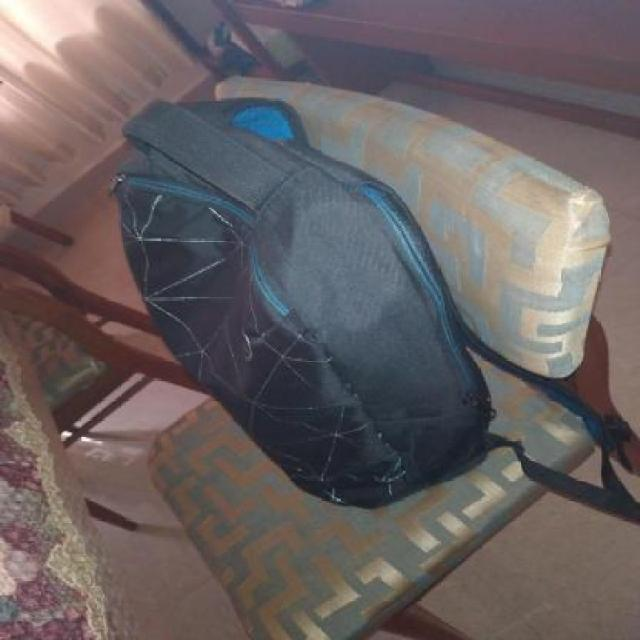backpack: (112, 95, 497, 512)
